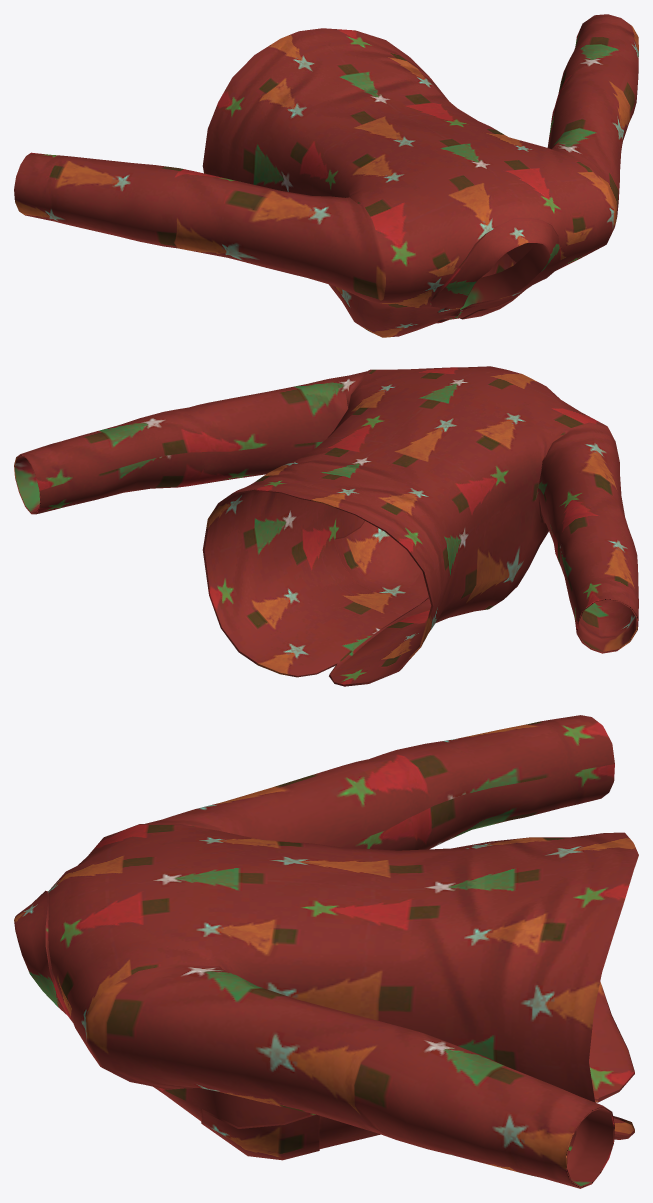
3 renders of one model, top to bottom at view 1: azimuth 30°, elevation 25°; view 2: azimuth 150°, elevation 25°; view 3: azimuth 270°, elevation 25°, orthographic. The views are drawn at different scales.
Visible parts, largest first — view 1: jbib_001_u_high_1.014; view 2: jbib_001_u_high_1.014; view 3: jbib_001_u_high_1.014.
Part boxes in pixels (left/top/right/bottom): jbib_001_u_high_1.014: left=14, top=14, right=638, bottom=337; jbib_001_u_high_1.014: left=14, top=366, right=638, bottom=686; jbib_001_u_high_1.014: left=14, top=715, right=638, bottom=1188.
Bounding box in the file's own units: 1.1 × 0.3271 × 0.687.
1 material, 1 textured.
